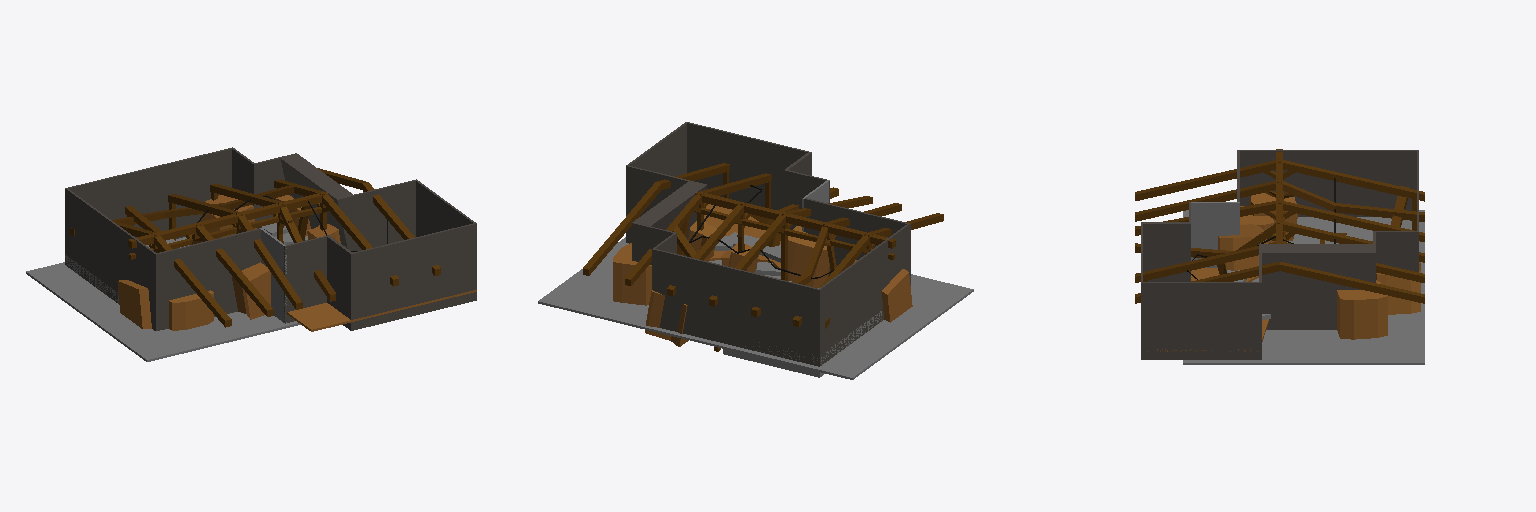
The model's file is 1_EMBLOCADOESTRUCTURA.obj.
3 renders of one model, left to right at view 1: azimuth 30°, elevation 25°; view 2: azimuth 150°, elevation 25°; view 3: azimuth 270°, elevation 25°, orthographic.
Visible parts, largest first — view 1: pCube3; view 2: pCube3; view 3: pCube3.
Part boxes in pixels (left/top/right/bottom): pCube3: left=26, top=147, right=476, bottom=361; pCube3: left=538, top=122, right=973, bottom=379; pCube3: left=1135, top=149, right=1424, bottom=364.
Size of the model in its own units: 15 by 4.23 by 12.01.